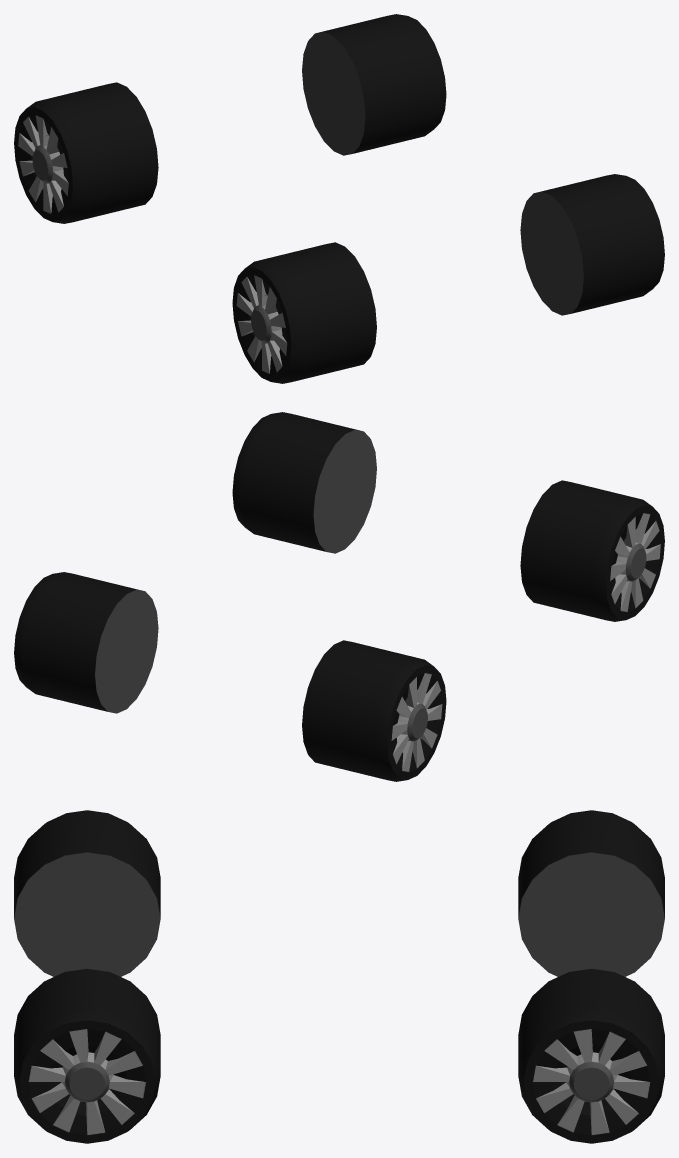
Rendered from SPORT-WHEELS.glb.
3 renders of one model, top to bottom at view 1: azimuth 30°, elevation 25°; view 2: azimuth 150°, elevation 25°; view 3: azimuth 270°, elevation 25°, orthographic. The views are drawn at different scales.
Size of the model in its own units: 1.72 by 0.4986 by 2.21.
1 material, 1 textured.
